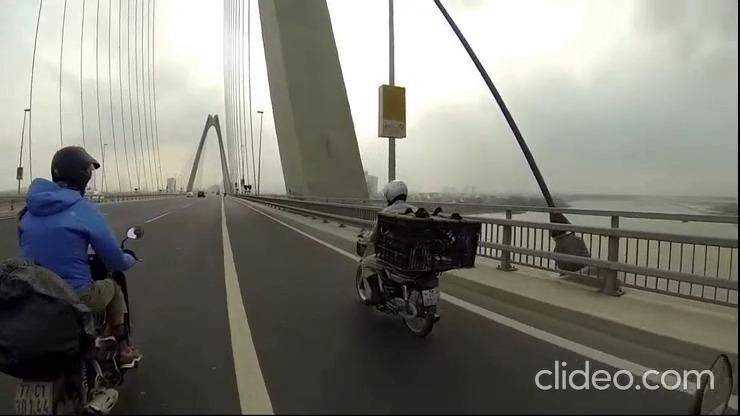helmet: (50, 145, 101, 199), (383, 179, 409, 207)
